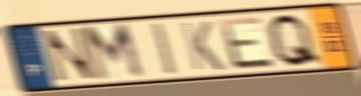E: (216, 14, 279, 72)
I: (150, 20, 180, 77)
K: (178, 19, 228, 72)
M: (79, 21, 148, 85)
N: (40, 26, 100, 86)
Q: (265, 12, 326, 70)
